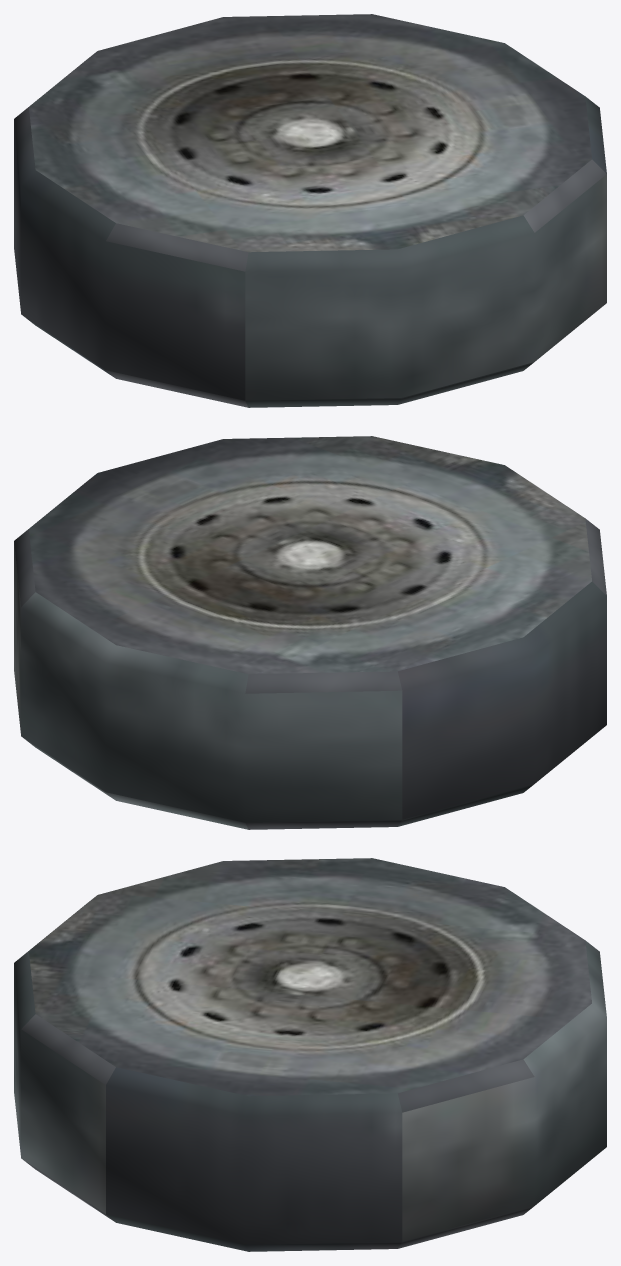
File: wheel.fbx
The picture shows the model from 3 angles, top to bottom: view 1: azimuth 30°, elevation 25°; view 2: azimuth 150°, elevation 25°; view 3: azimuth 270°, elevation 25°; orthographic projection.
Parts seen in each view (by area): view 1: Wheel; view 2: Wheel; view 3: Wheel.
Part boxes in pixels (x1,y1,x2,y2): Wheel: [14, 14, 606, 407]; Wheel: [14, 436, 606, 829]; Wheel: [14, 858, 606, 1251].
Bounding box in the file's own units: 0.5883 × 0.1704 × 0.5883.
